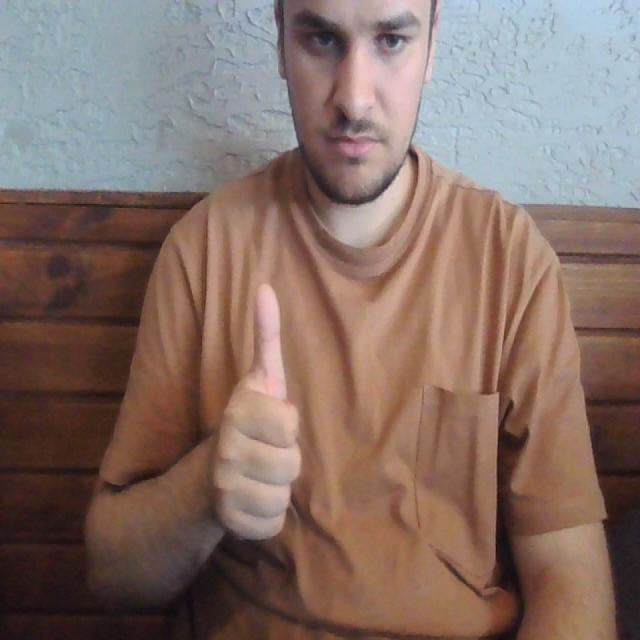Tamam: (201, 273, 309, 550)
